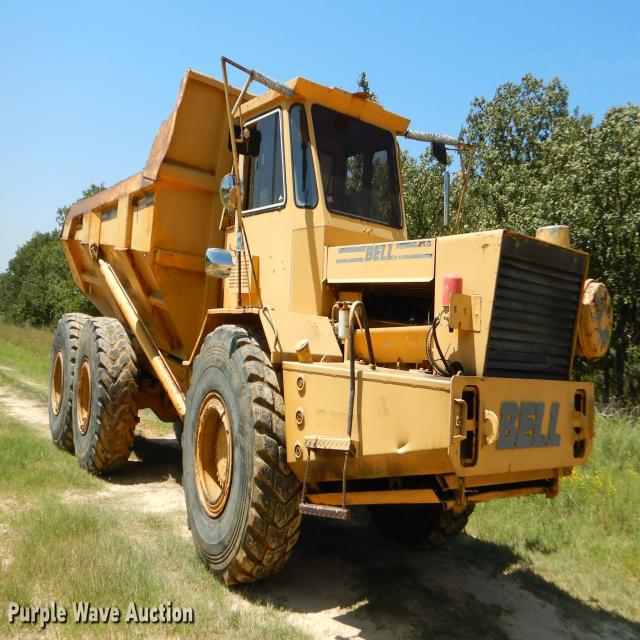dump_truck: (37, 49, 601, 588)
